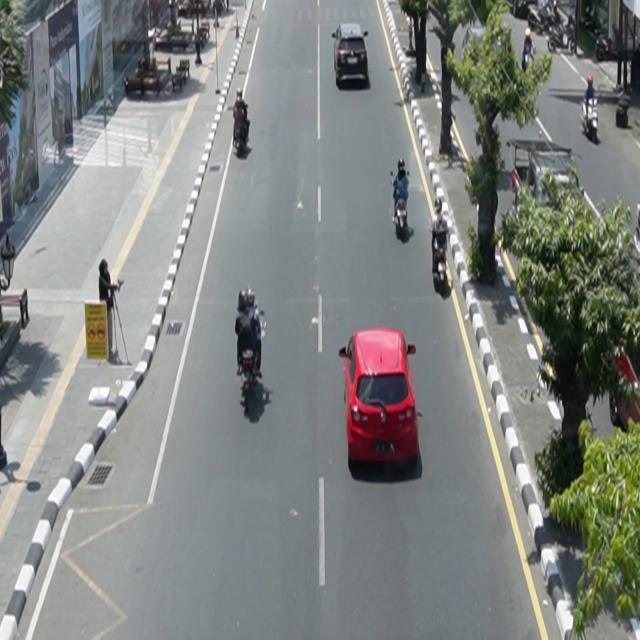car: (339, 328, 420, 469), (332, 23, 370, 88)
